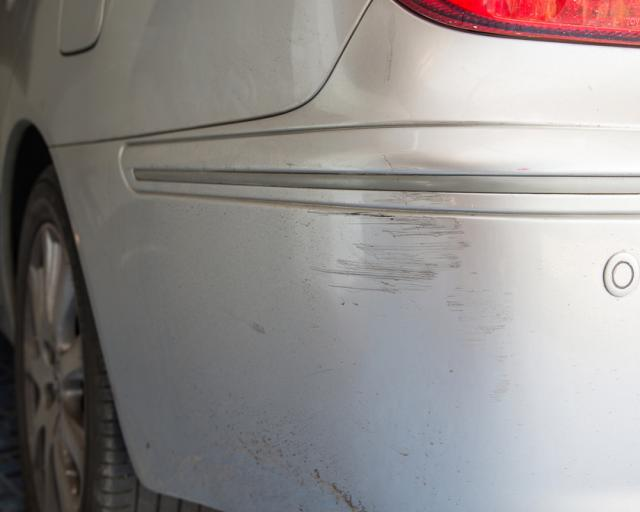scratch: (305, 177, 519, 398)
